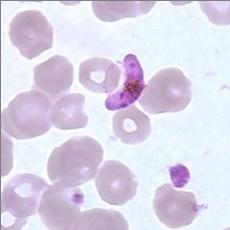Infected: (103, 52, 145, 110)
Uninfected: (47, 135, 103, 188), (140, 65, 194, 116), (8, 10, 54, 60), (10, 86, 53, 136), (94, 159, 137, 205), (154, 183, 198, 227), (3, 175, 48, 218), (39, 186, 81, 228), (34, 54, 75, 93), (50, 92, 89, 132), (80, 56, 120, 93), (111, 109, 152, 144)
